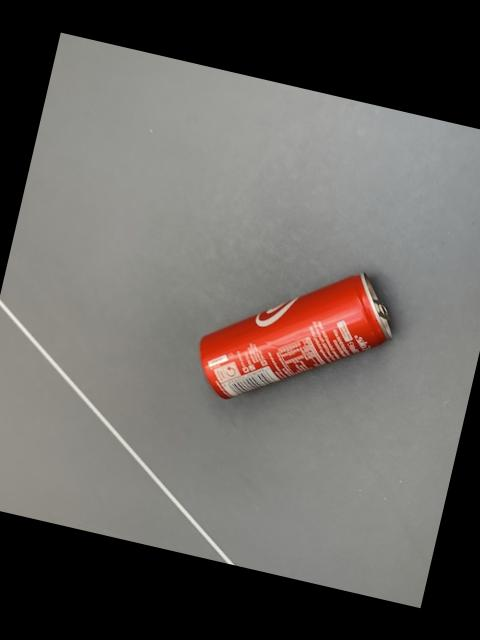metal: (197, 272, 388, 396)
